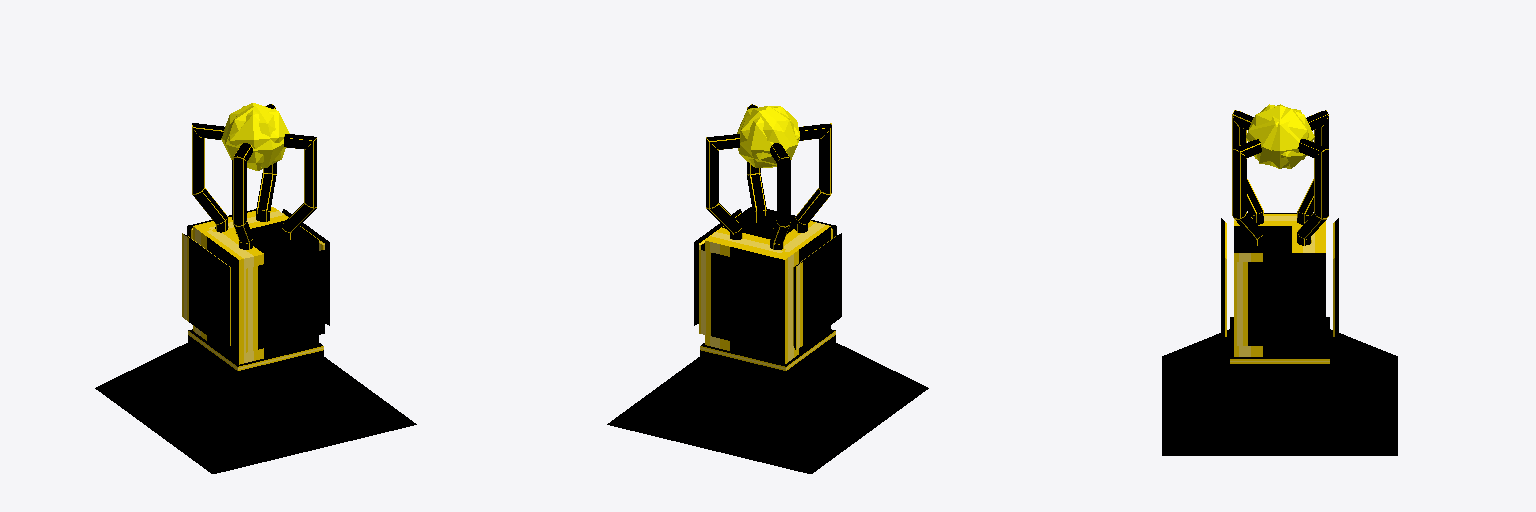
3 views of the same model, side by side, from view 1: azimuth 30°, elevation 25°; view 2: azimuth 150°, elevation 25°; view 3: azimuth 270°, elevation 25° (orthographic).
Visible parts, largest first — view 1: Conjuration_L2_Base, Conjuration_L2_Panel_007, Conjuration_L2_Panel_005, Conjuration_L2_Pipe_007, Conjuration_L2_Pipe_008, Conjuration_L2_Energy_003, Conjuration_L2_Pipe_006, Conjuration_L2_Energy002, Conjuration_L2_Pipe_005, Conjuration_L2_Panel_006; view 2: Conjuration_L2_Base, Conjuration_L2_Panel_008, Conjuration_L2_Panel_005, Conjuration_L2_Pipe_006, Conjuration_L2_Pipe_005, Conjuration_L2_Pipe_007, Conjuration_L2_Energy002, Conjuration_L2_Energy_003, Conjuration_L2_Pipe_008, Conjuration_L2_Panel_006; view 3: Conjuration_L2_Base, Conjuration_L2_Panel_006, Conjuration_L2_Pipe_005, Conjuration_L2_Pipe_008, Conjuration_L2_Energy_003, Conjuration_L2_Energy002, Conjuration_L2_Pipe_007, Conjuration_L2_Pipe_006, Conjuration_L2_Panel_007, Conjuration_L2_Panel_008.
Boxes of the visible parts, x1,y1,x2,y2 form: Conjuration_L2_Base: [95, 207, 416, 473]; Conjuration_L2_Panel_007: [246, 250, 324, 352]; Conjuration_L2_Panel_005: [182, 233, 230, 349]; Conjuration_L2_Pipe_007: [192, 123, 228, 232]; Conjuration_L2_Pipe_008: [281, 134, 316, 239]; Conjuration_L2_Energy_003: [221, 103, 289, 170]; Conjuration_L2_Pipe_006: [232, 143, 252, 249]; Conjuration_L2_Energy002: [225, 106, 283, 167]; Conjuration_L2_Pipe_005: [256, 104, 276, 221]; Conjuration_L2_Panel_006: [282, 209, 329, 325]; Conjuration_L2_Base: [607, 207, 928, 473]; Conjuration_L2_Panel_008: [699, 250, 777, 352]; Conjuration_L2_Panel_005: [793, 233, 841, 349]; Conjuration_L2_Pipe_006: [795, 123, 831, 232]; Conjuration_L2_Pipe_005: [706, 134, 742, 239]; Conjuration_L2_Pipe_007: [770, 143, 790, 249]; Conjuration_L2_Energy002: [737, 106, 799, 167]; Conjuration_L2_Energy_003: [738, 107, 799, 166]; Conjuration_L2_Pipe_008: [747, 104, 766, 222]; Conjuration_L2_Panel_006: [694, 209, 741, 325]; Conjuration_L2_Base: [1162, 214, 1397, 455]; Conjuration_L2_Panel_006: [1234, 262, 1325, 345]; Conjuration_L2_Pipe_005: [1297, 139, 1328, 245]; Conjuration_L2_Pipe_008: [1232, 139, 1263, 245]; Conjuration_L2_Energy_003: [1248, 104, 1308, 168]; Conjuration_L2_Energy002: [1246, 104, 1314, 168]; Conjuration_L2_Pipe_007: [1297, 110, 1328, 224]; Conjuration_L2_Pipe_006: [1232, 110, 1263, 224]; Conjuration_L2_Panel_007: [1221, 218, 1226, 340]; Conjuration_L2_Panel_008: [1333, 218, 1338, 340].
Bounding box in the file's own units: 20 × 28.08 × 20.
Materials: 2 (1 with a texture image).